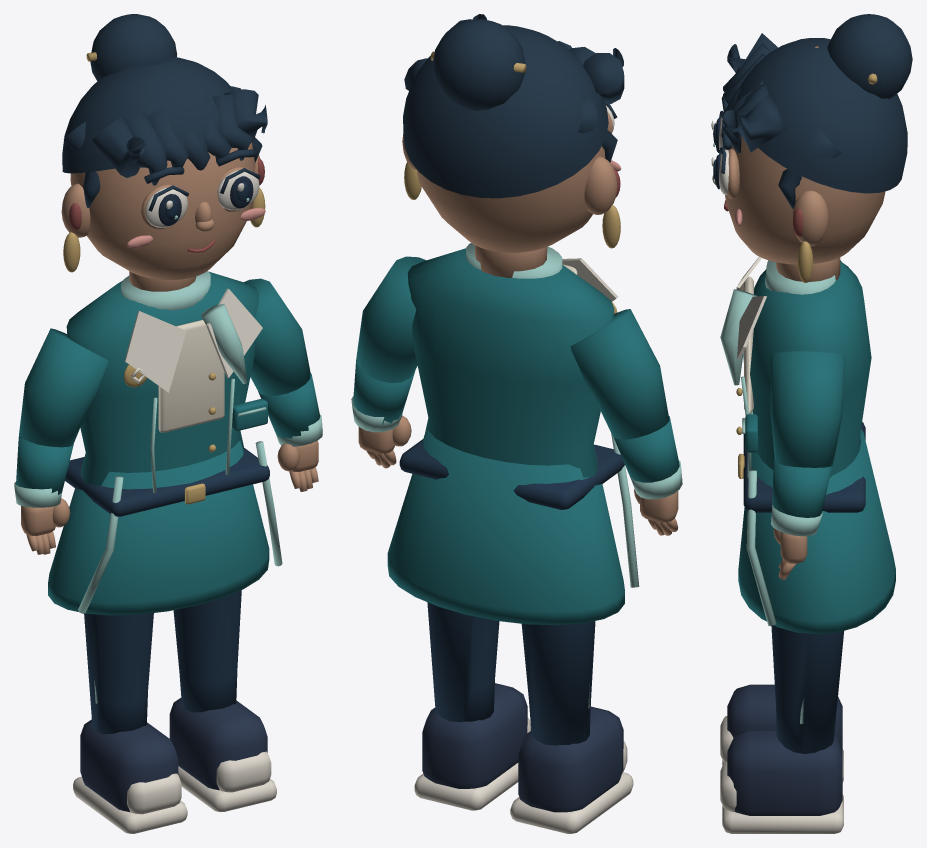
File: elite_tide_priest.glb
3 views of the same model, side by side, from view 1: azimuth 30°, elevation 25°; view 2: azimuth 150°, elevation 25°; view 3: azimuth 270°, elevation 25° (orthographic). The views are drawn at different scales.
Parts seen in each view (by area): view 1: figure.020; view 2: figure.020; view 3: figure.020.
Part boxes in pixels (x1,y1,x2,y2): figure.020: (14, 14, 322, 833); figure.020: (351, 14, 682, 833); figure.020: (711, 14, 912, 833).
Size of the model in its own units: 1.1 by 2.63 by 0.6148.
